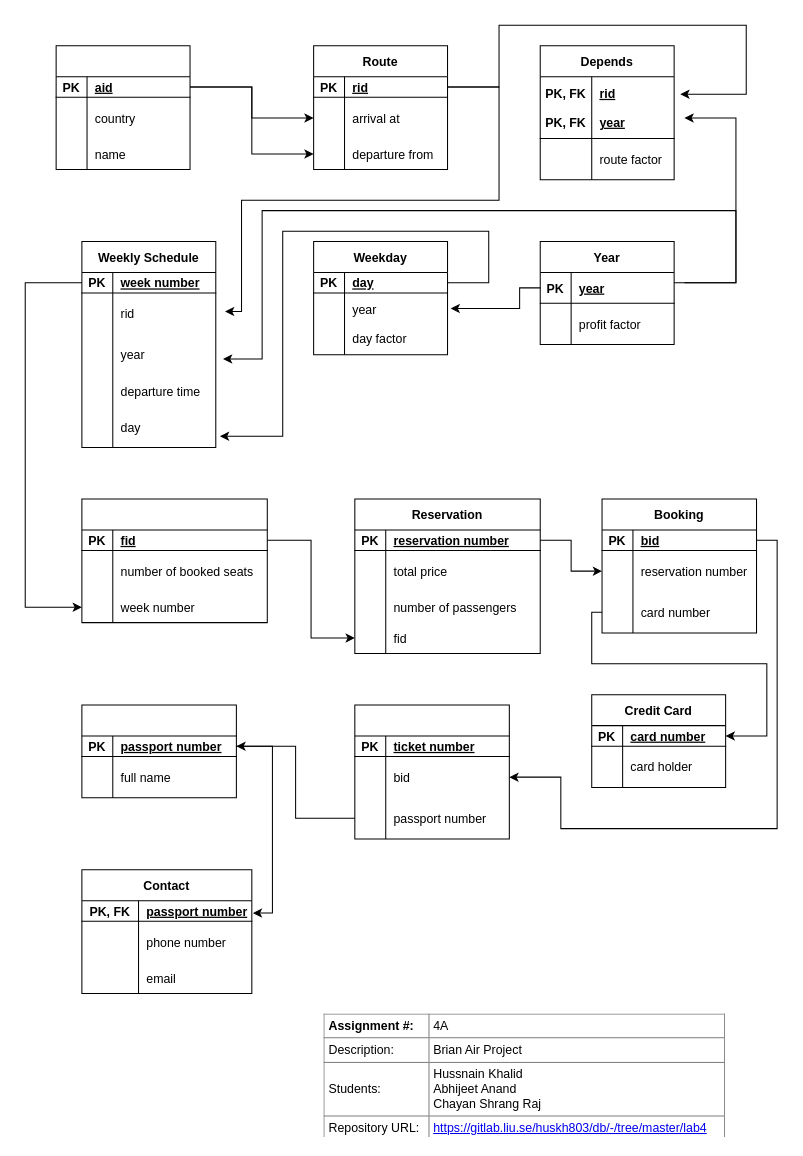
The diagram is 803 pixels wide and 1156 high, and some of its shapes have lost their labels. Here are the shapes that lost their labels. From the top down, the box of each, then its label:
(55, 45, 190, 169): Airport
(81, 498, 267, 623): Flight
(81, 704, 236, 798): Passenger
(354, 704, 509, 839): Provides
